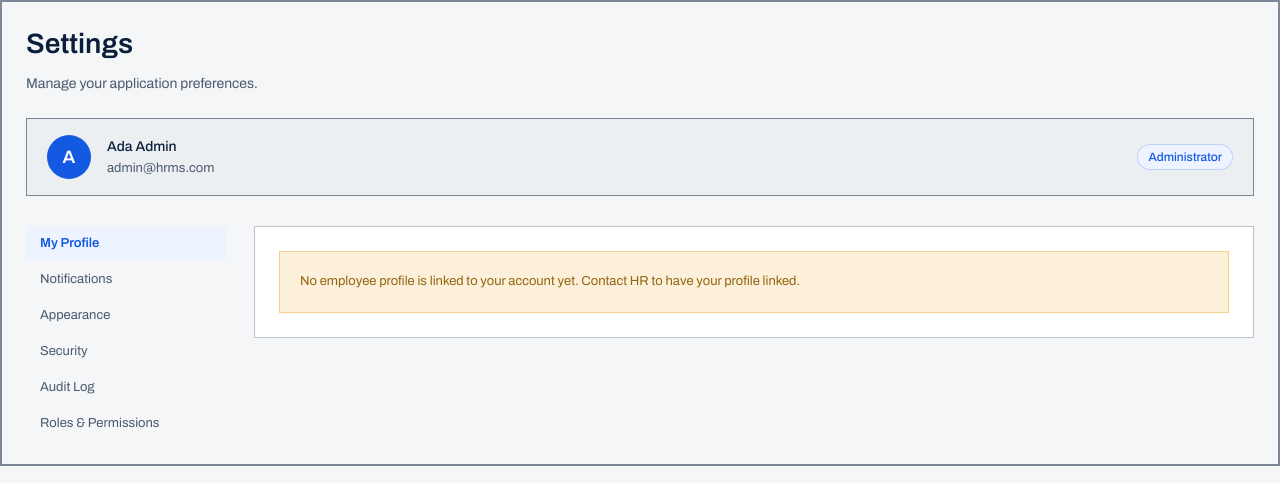
Test: Settings — tab switching › switches to Appearance when its tab is clicked
Expected: the button "My Profile" is shown, x1=26 y1=226 x2=226 y2=260
Click the button "Appearance" at (126, 315), box x1=26 y1=298 x2=226 y2=332
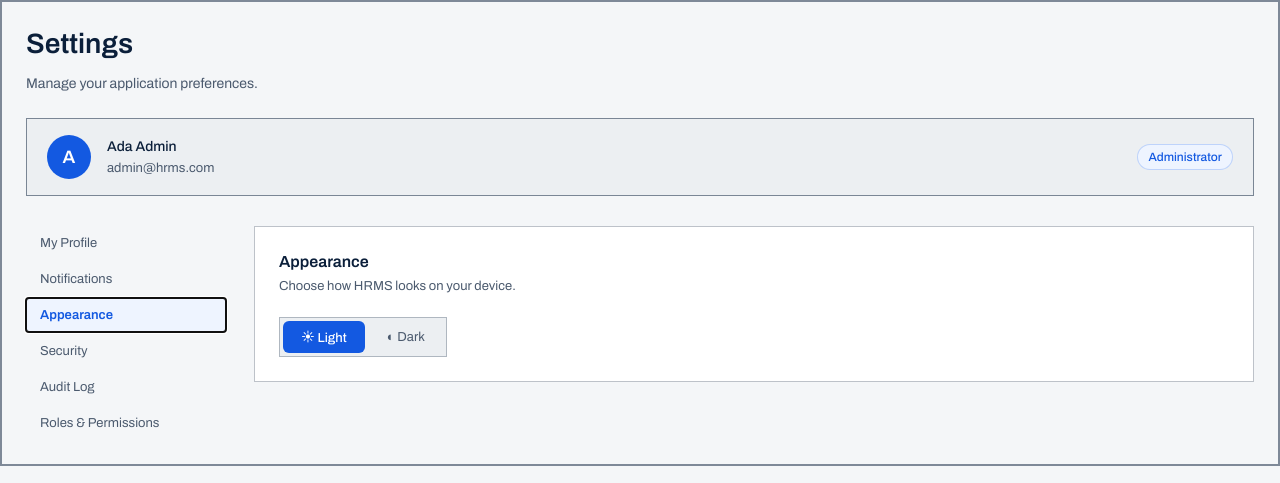
Expected: the text "Choose how HRMS looks on your device." is shown, x1=279 y1=279 x2=516 y2=293
